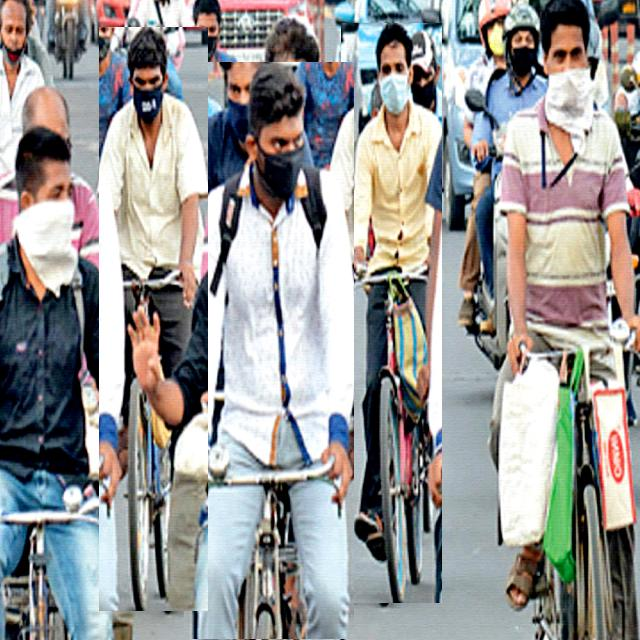bicycle: (184, 63, 354, 639), (489, 0, 640, 636), (99, 27, 208, 611), (341, 23, 441, 603)
